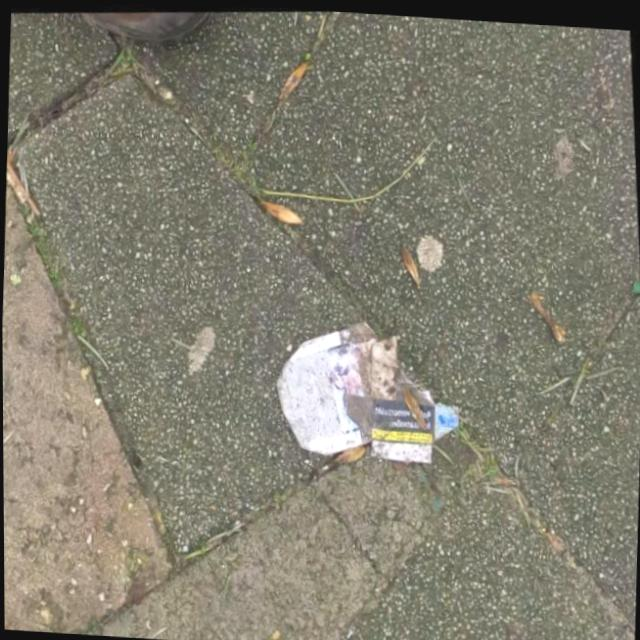Paper: (268, 308, 466, 465)
